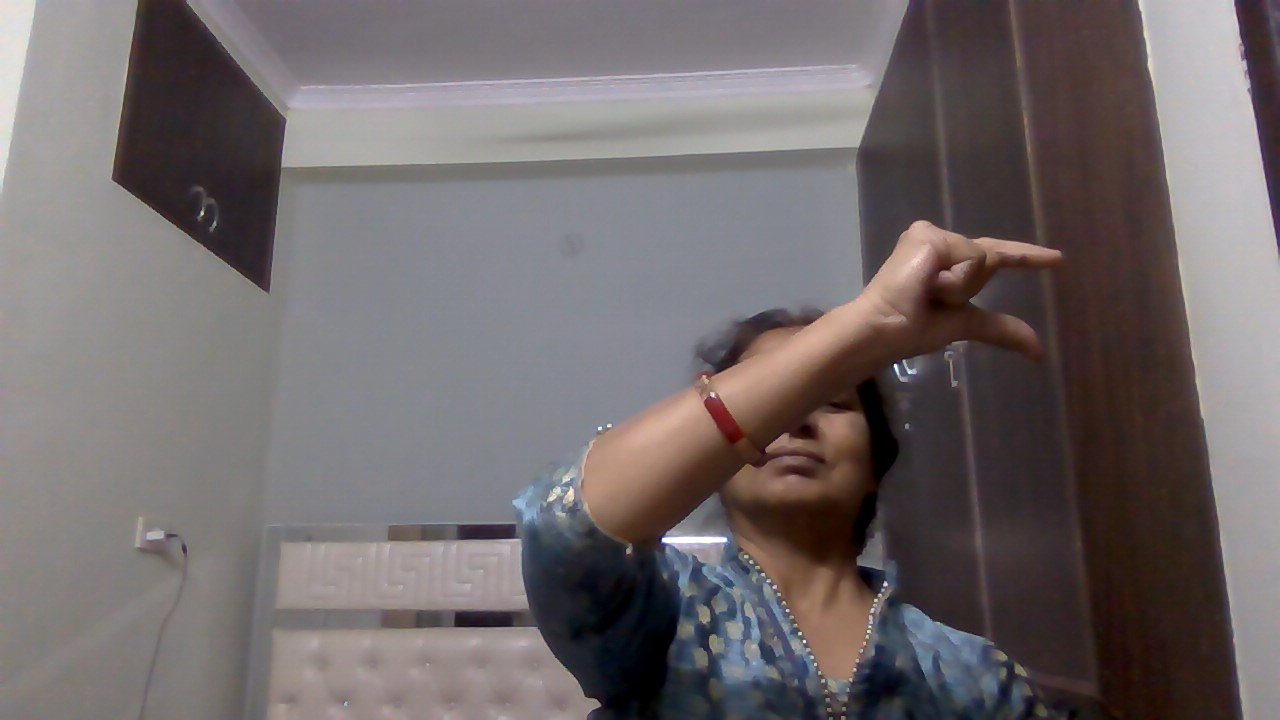Paste: (843, 206, 1078, 388)
